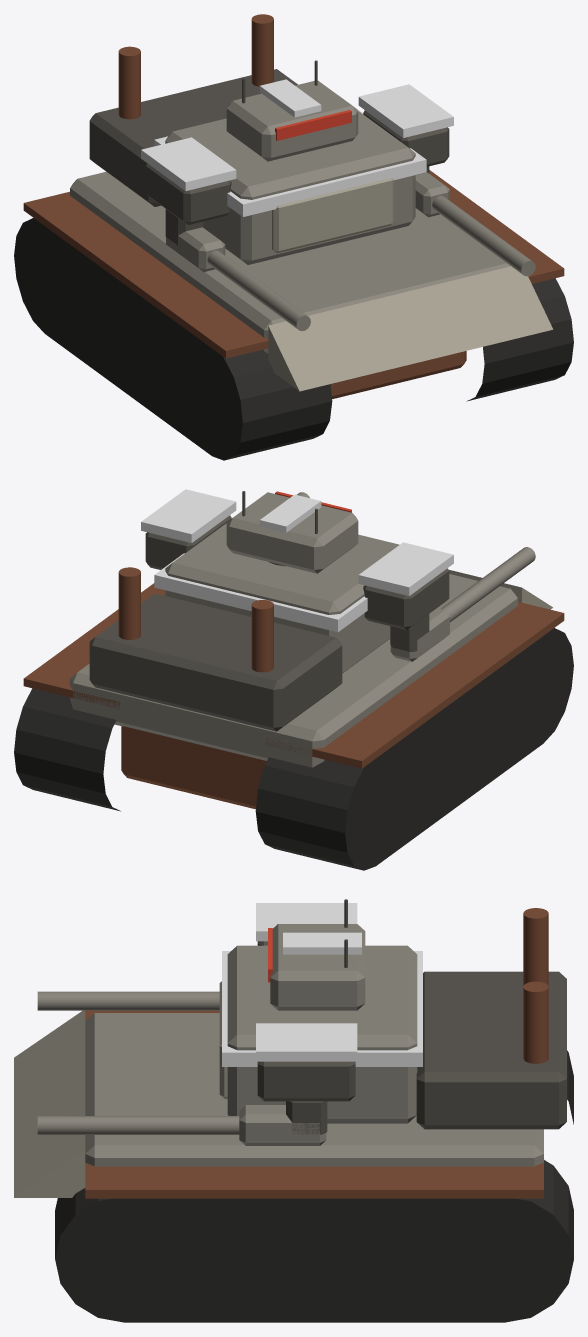
The picture shows the model from 3 angles, top to bottom: view 1: azimuth 30°, elevation 25°; view 2: azimuth 150°, elevation 25°; view 3: azimuth 270°, elevation 25°; orthographic projection. The views are drawn at different scales.
Visible parts, largest first — view 1: dweller_robot_guard; view 2: dweller_robot_guard; view 3: dweller_robot_guard.
Boxes of the visible parts, x1,y1,x2,y2 form: dweller_robot_guard: (14,14,573,460); dweller_robot_guard: (14,489,573,870); dweller_robot_guard: (14,899,573,1322).
Size of the model in its own units: 2.8 by 2.17 by 3.54.
